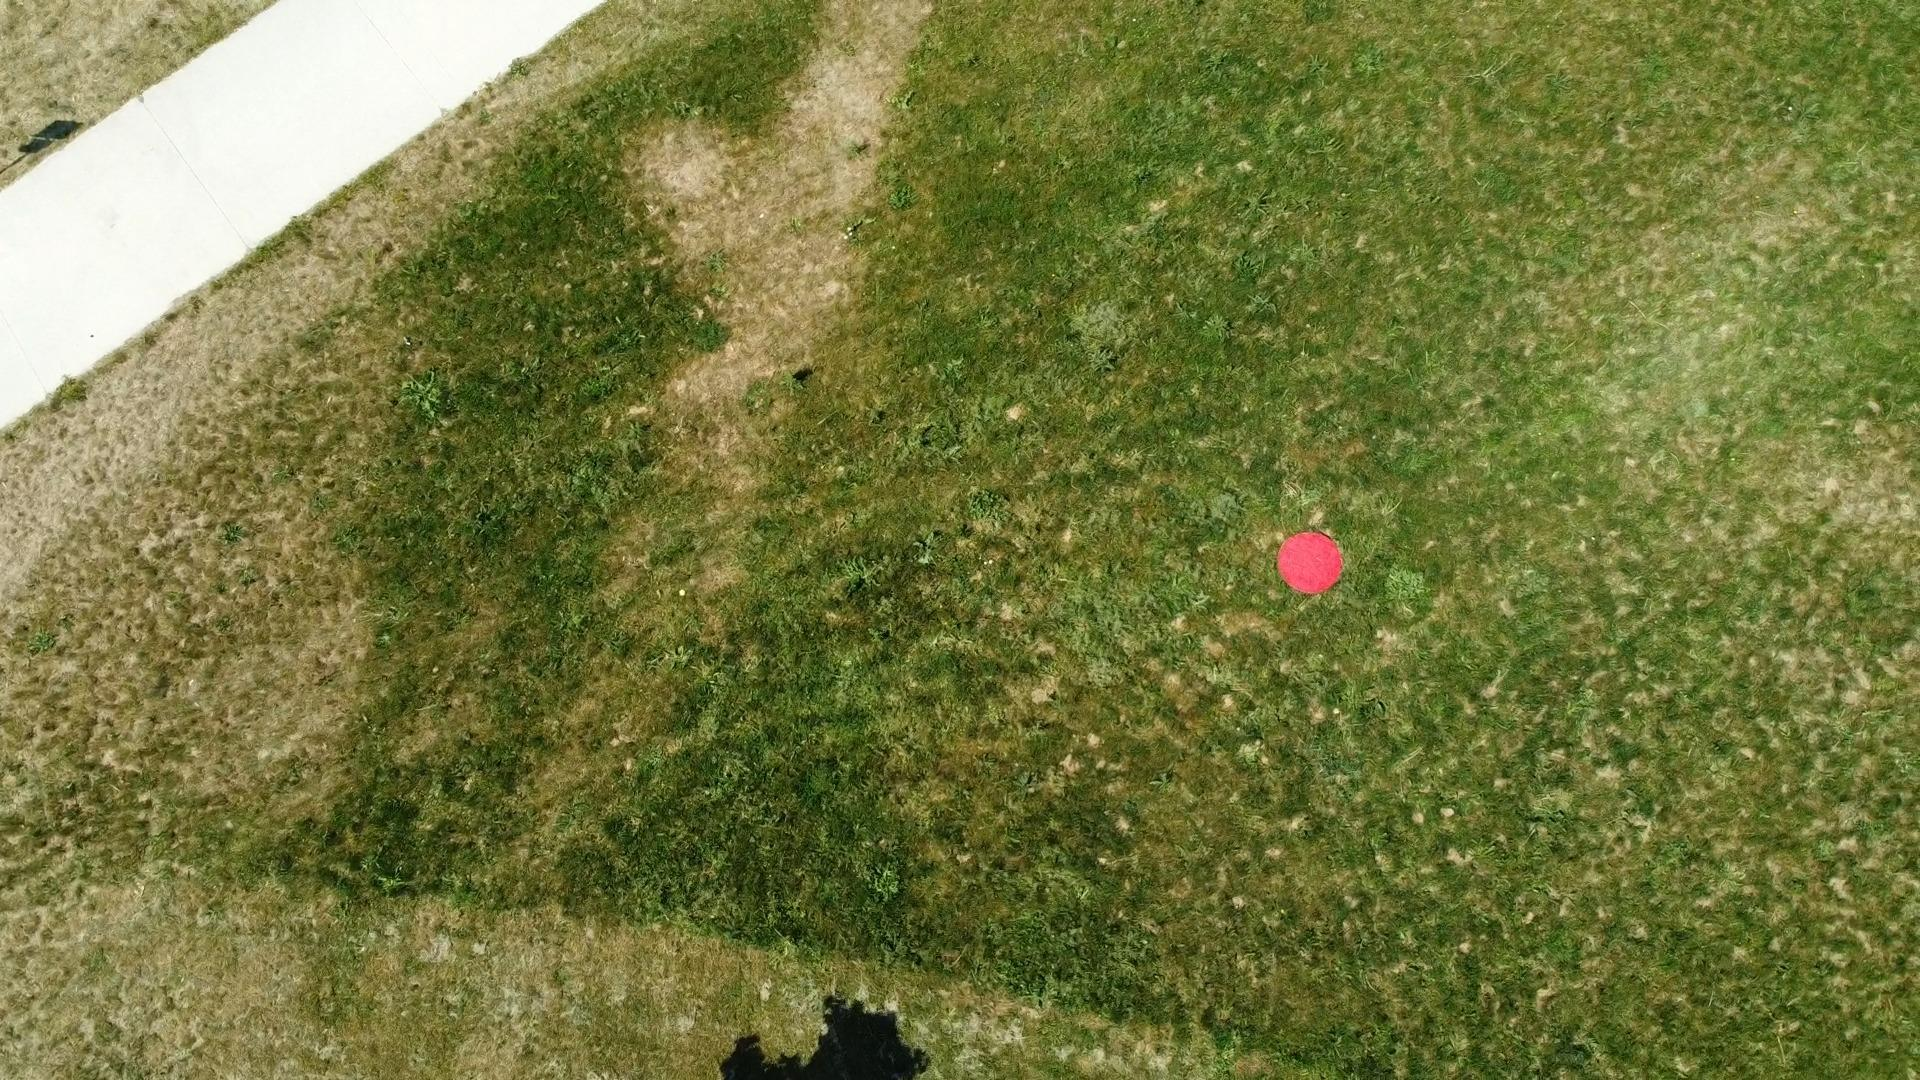Red: (1273, 530, 1344, 596)
